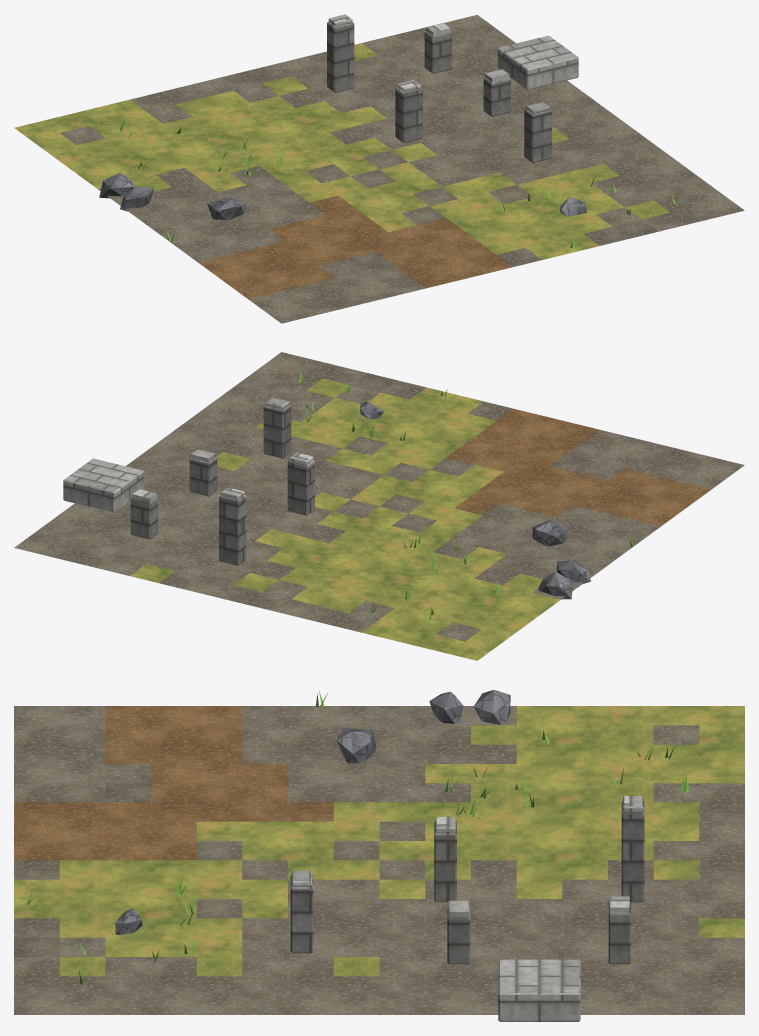
File: chunk_9_17.glb
3 renders of one model, top to bottom at view 1: azimuth 30°, elevation 25°; view 2: azimuth 150°, elevation 25°; view 3: azimuth 270°, elevation 25°, orthographic. The views are drawn at different scales.
Visible parts, largest first — view 1: chunk_9_17; view 2: chunk_9_17; view 3: chunk_9_17.
Part boxes in pixels (left/top/right/bottom): chunk_9_17: left=14, top=14, right=744, bottom=323; chunk_9_17: left=14, top=352, right=744, bottom=660; chunk_9_17: left=14, top=690, right=744, bottom=1021.
Size of the model in its own units: 16.56 by 2.7 by 16.
Materials: 8 (7 with a texture image).
